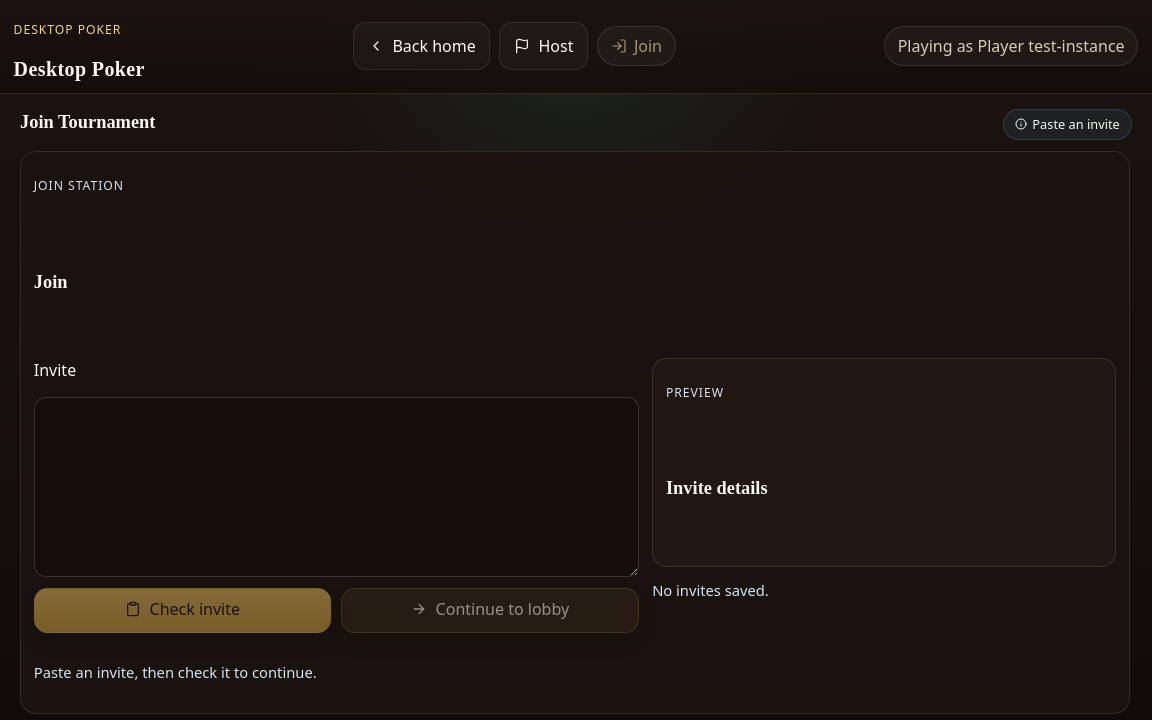
Test: AppShell integration (host and lobby) › keeps a join flow in the lobby until a real table is running
The width and height of the screenshot is (1152, 720).
Expected: the heading "Join Tournament" is shown, [20, 109, 155, 140]
Step 1. Type "pkr1_good" into the text box labelled "Invite" → (336, 487), box [34, 397, 639, 577]
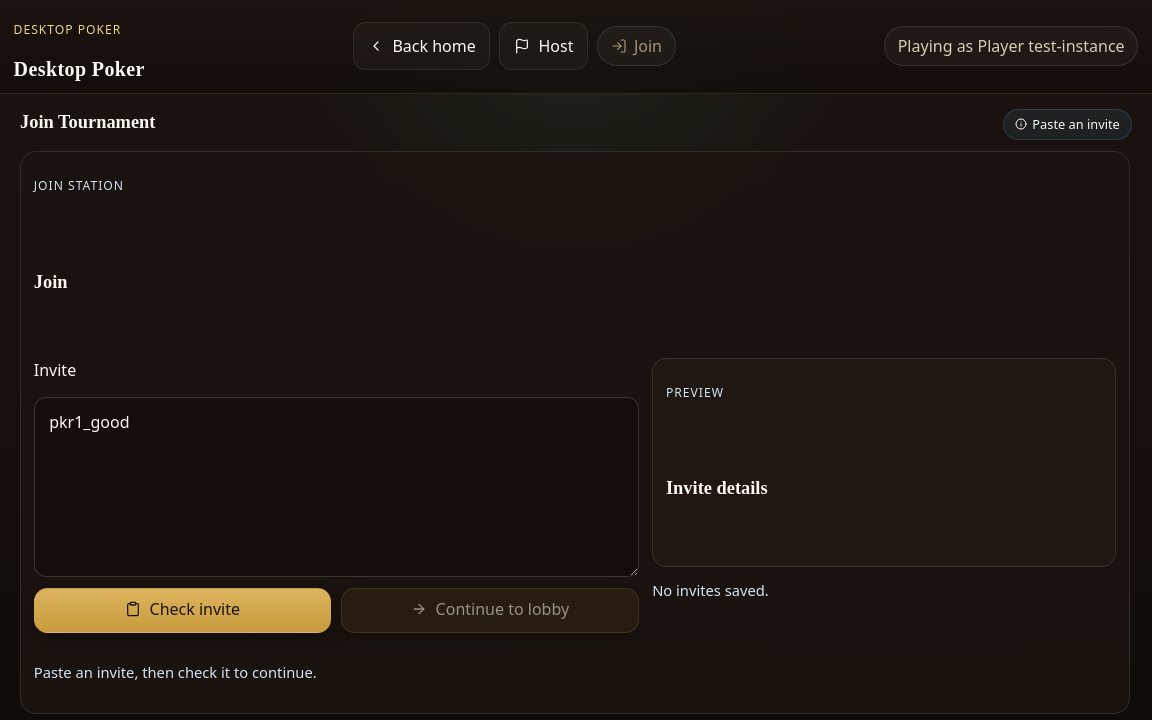
Step 2. Click the button "Check invite" → (182, 610), box [34, 588, 331, 633]
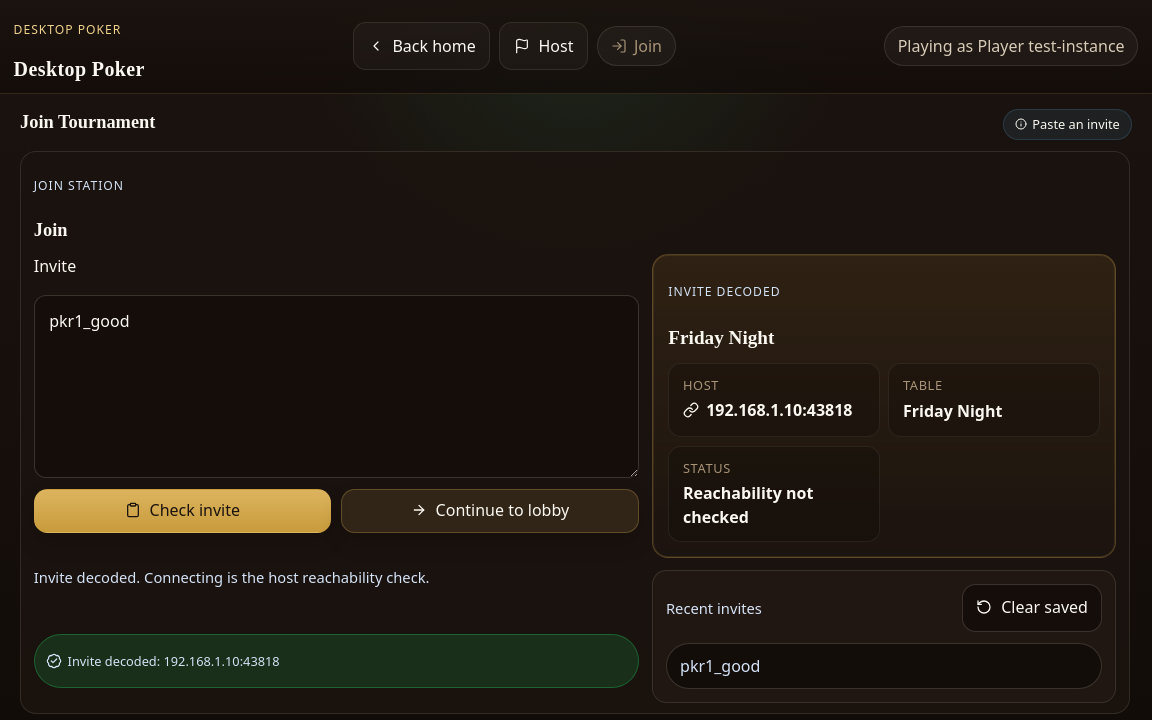
Expected: the element named "Invite preview" is shown, [652, 254, 1116, 558]
Expected: the heading "Friday Night" is shown, [668, 327, 774, 348]
Step 3. Click the button "Continue to lobby" → (490, 511), box [341, 489, 639, 533]
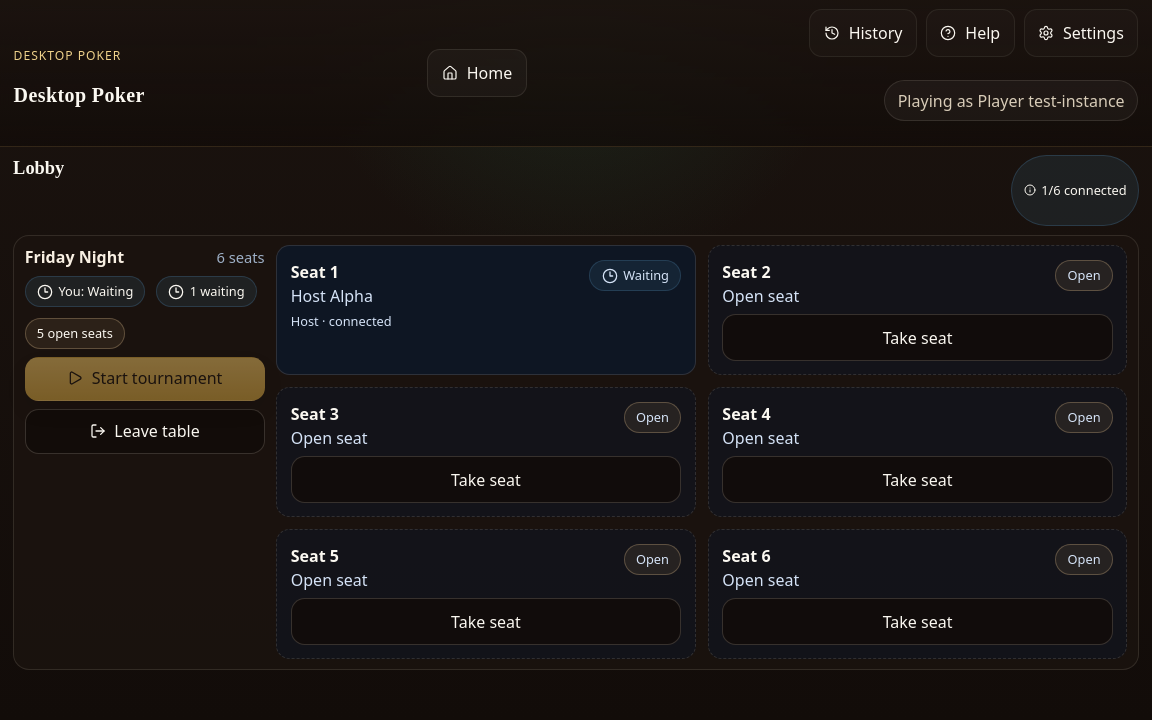
Expected: the heading "Lobby" is shown, [13, 158, 64, 178]
Expected: the button "Start tournament" is disabled, [25, 357, 265, 401]
